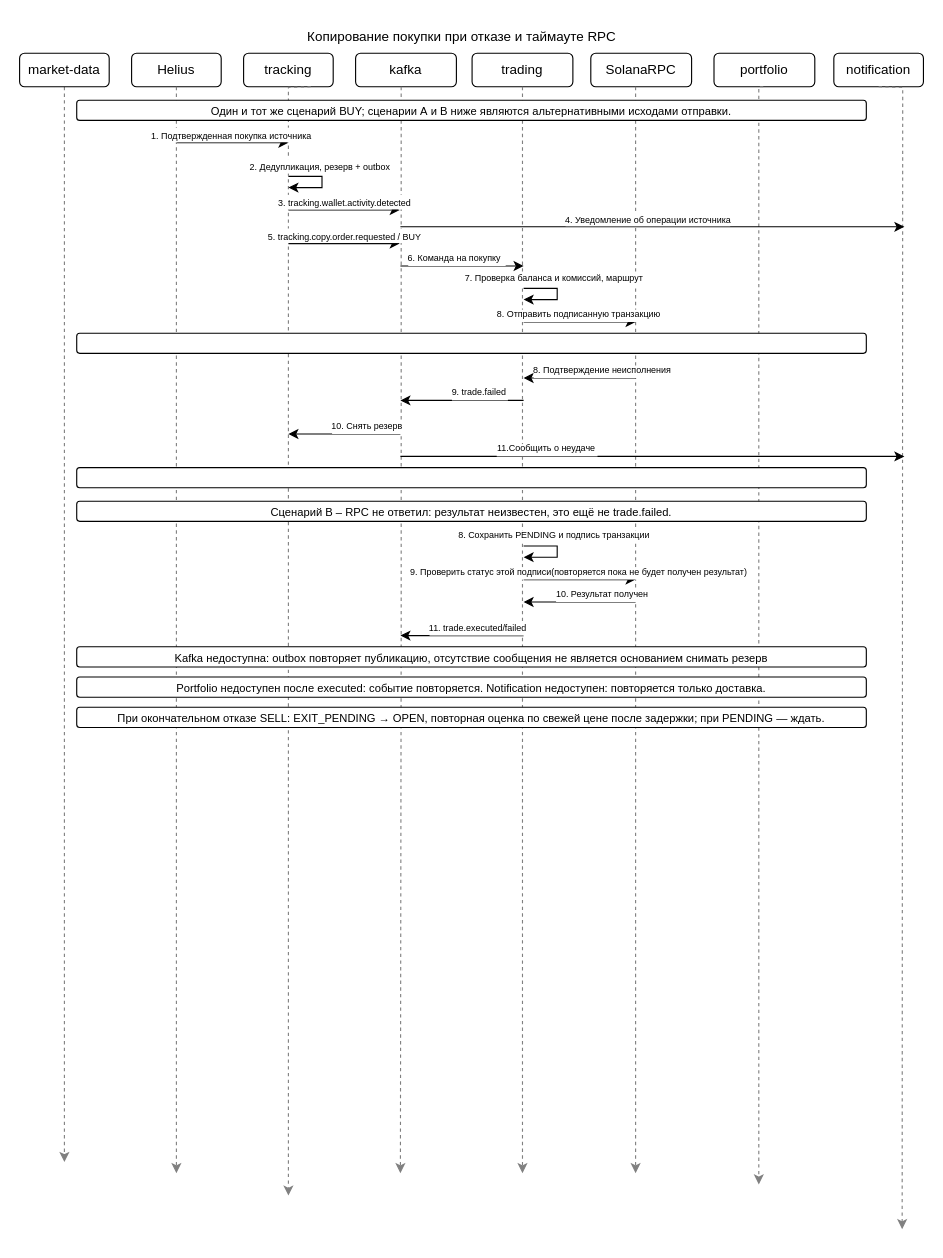
Some shapes in this 943 by 1258 pixel diagram are drawn without their labels. Here are the shapes that lost their labels. From the top down, the centre of each, then its label:
the point at 471,342: Сценарий А – окончательный отказ: транзакция не исполнилась.
the point at 471,477: portfolio не создаёт позицию: trade.executed не было
